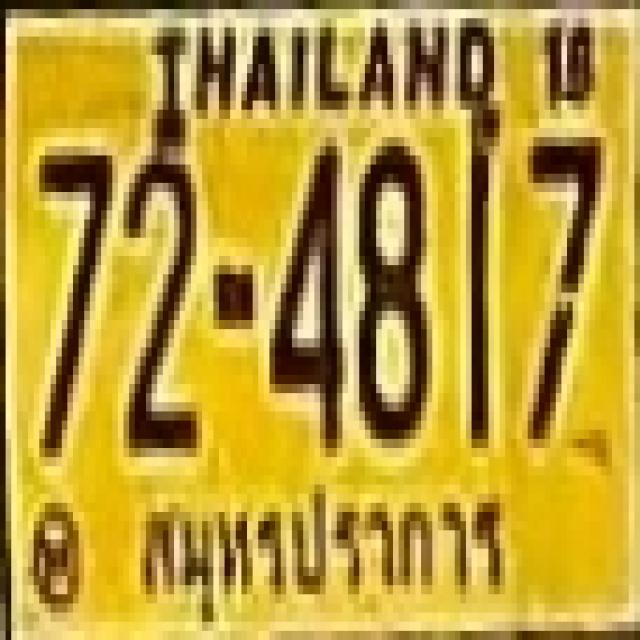2: (120, 146, 193, 448)
4: (269, 139, 342, 441)
7: (36, 146, 110, 448), (528, 128, 595, 439)
8: (354, 137, 426, 439)
SPK: (134, 478, 520, 614)
